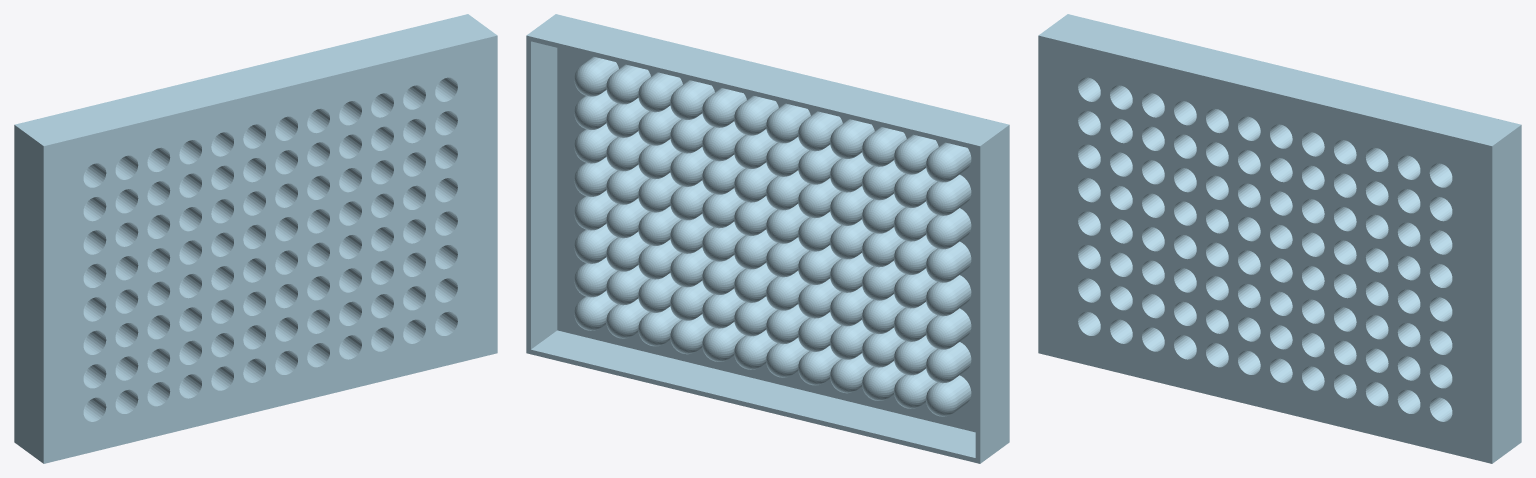
The model's file is sbs_96_well.glb.
The picture shows the model from 3 angles, left to right: view 1: azimuth 30°, elevation 25°; view 2: azimuth 150°, elevation 25°; view 3: azimuth 330°, elevation 25°; orthographic projection.
Parts seen in each view (by area): view 1: world; view 2: world; view 3: world.
Boxes of the visible parts, x1=… form: world: x1=14, y1=14, x2=497, y2=463; world: x1=526, y1=14, x2=1009, y2=463; world: x1=1038, y1=14, x2=1521, y2=463.
Size of the model in its own units: 0.1278 by 0.0855 by 0.0143.
